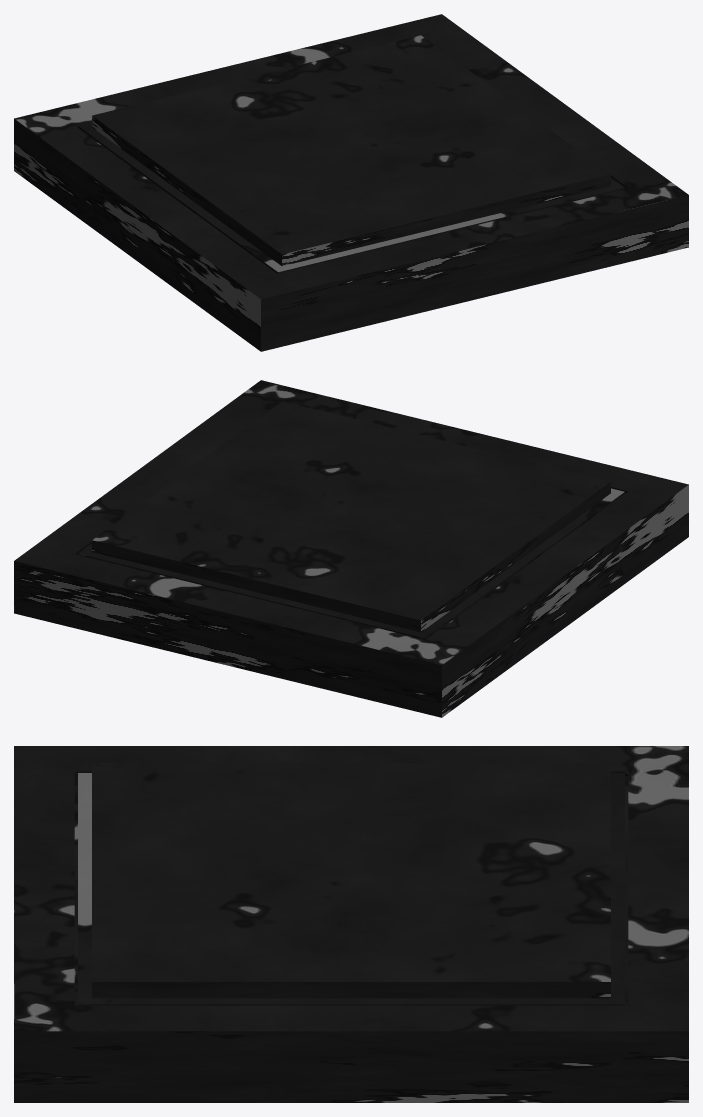
The model's file is buildig.003_peeling_paint_(metal)_(black)_0_lev3.glb.
3 views of the same model, one above another, from view 1: azimuth 30°, elevation 25°; view 2: azimuth 150°, elevation 25°; view 3: azimuth 270°, elevation 25° (orthographic). The views are drawn at different scales.
Parts seen in each view (by area): view 1: buildig.003_peeling_paint_(metal)_(black)_0_lev3; view 2: buildig.003_peeling_paint_(metal)_(black)_0_lev3; view 3: buildig.003_peeling_paint_(metal)_(black)_0_lev3.
Part boxes in pixels (box(x1,y1,x2,y2)): buildig.003_peeling_paint_(metal)_(black)_0_lev3: box(14, 14, 688, 351); buildig.003_peeling_paint_(metal)_(black)_0_lev3: box(14, 380, 688, 717); buildig.003_peeling_paint_(metal)_(black)_0_lev3: box(14, 746, 688, 1102).
Bounding box in the file's own units: 0.5037 × 0.0724 × 0.5037.
1 material, 1 textured.
